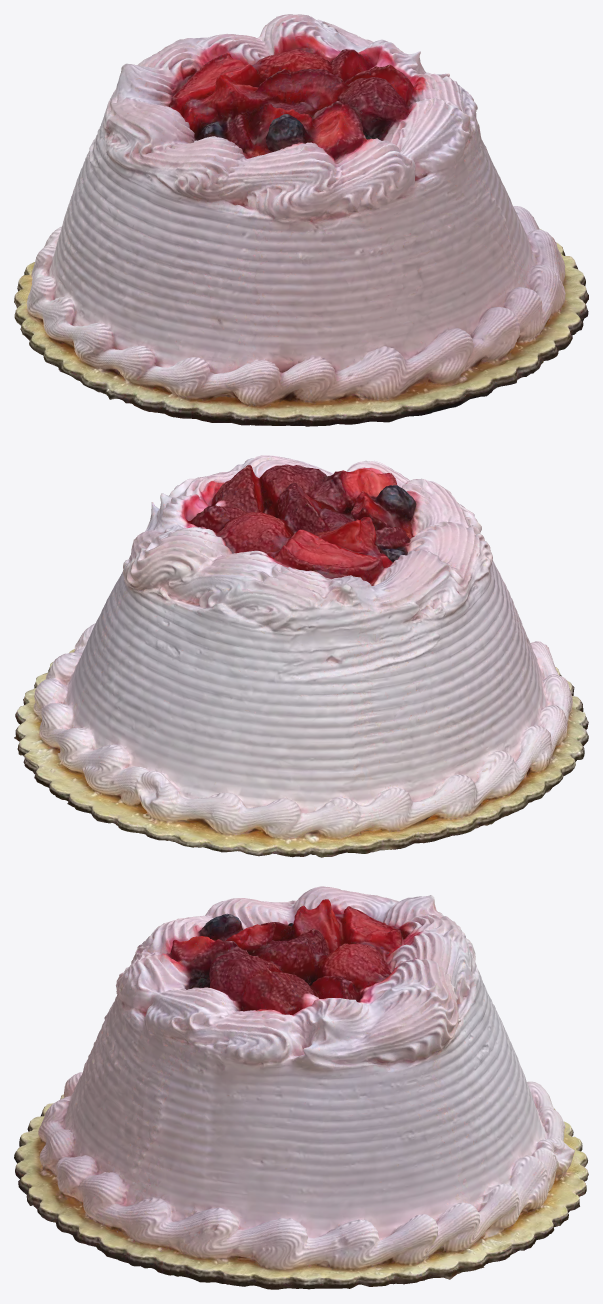
The model's file is cake.glb.
The picture shows the model from 3 angles, top to bottom: view 1: azimuth 30°, elevation 25°; view 2: azimuth 150°, elevation 25°; view 3: azimuth 270°, elevation 25°; orthographic projection.
Visible parts, largest first — view 1: model_tex_u1_v1_0; view 2: model_tex_u1_v1_0; view 3: model_tex_u1_v1_0.
Boxes of the visible parts, box(x1,y1,x2,y2) form: model_tex_u1_v1_0: box(14, 14, 588, 426); model_tex_u1_v1_0: box(14, 455, 588, 857); model_tex_u1_v1_0: box(14, 886, 588, 1289).
Size of the model in its own units: 0.2265 by 0.1055 by 0.2269.
1 material, 1 textured.
